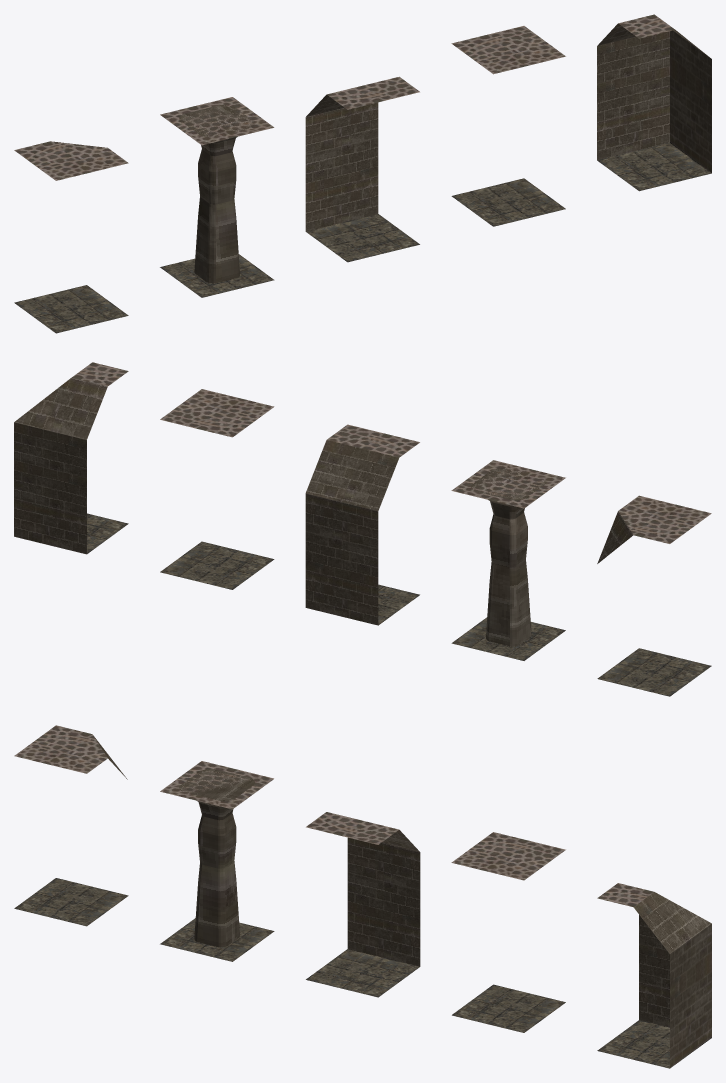
Rendered from dungeon_tileset_1.glb.
3 views of the same model, one above another, from view 1: azimuth 30°, elevation 25°; view 2: azimuth 150°, elevation 25°; view 3: azimuth 330°, elevation 25° (orthographic).
Parts seen in each view (by area): view 1: corner-col, wall-col, pillar-col, floor-col, outer_corner-col; view 2: wall-col, corner-col, pillar-col, outer_corner-col, floor-col; view 3: wall-col, corner-col, pillar-col, floor-col, outer_corner-col.
Part boxes in pixels (box(x1,y1,x2,y2)): corner-col: box(597, 14, 711, 191); wall-col: box(305, 76, 419, 262); pillar-col: box(160, 97, 274, 297); floor-col: box(451, 26, 565, 226); outer_corner-col: box(14, 141, 128, 333); wall-col: box(305, 424, 419, 625); corner-col: box(14, 362, 128, 554); pillar-col: box(451, 460, 565, 660); outer_corner-col: box(597, 495, 711, 696); floor-col: box(160, 389, 274, 589); wall-col: box(306, 812, 420, 997); corner-col: box(597, 883, 711, 1068); pillar-col: box(160, 761, 274, 961); floor-col: box(451, 832, 565, 1032); outer_corner-col: box(14, 725, 128, 926).
Bounding box in the file's own units: 18 × 4 × 2.
1 material, 1 textured.
